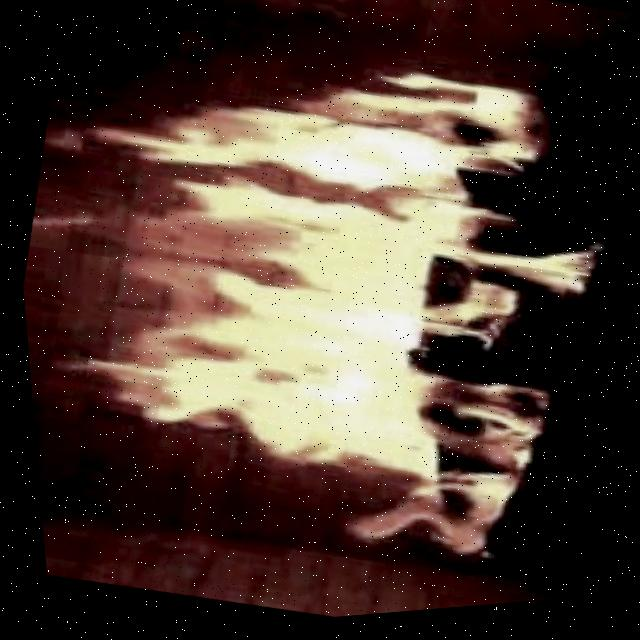Smoke: (1, 0, 640, 617)
